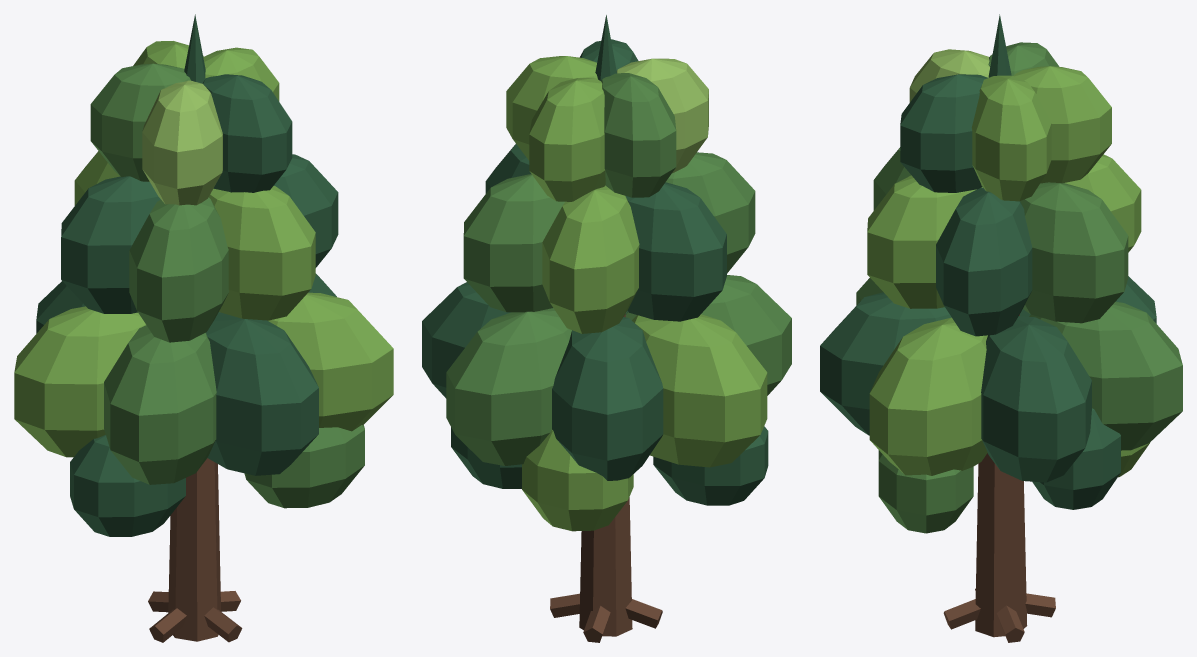
Rendered from tree_pine.glb.
3 views of the same model, side by side, from view 1: azimuth 30°, elevation 25°; view 2: azimuth 150°, elevation 25°; view 3: azimuth 270°, elevation 25° (orthographic).
Parts seen in each view (by area): view 1: decor_pine_tier_0_4, decor_pine_tier_0_5, decor_pine_tier_0_3, decor_pine_tier_1_3, decor_pine_tier_1_4, decor_pine_tier_0_6, decor_pine_tier_1_2, decor_pine_tier_2_2, decor_pine_tier_2_3, Pine_trunk, decor_pine_low_tip_0, decor_pine_tier_2_1 (+9 smaller); view 2: decor_pine_tier_0_3, decor_pine_tier_0_1, decor_pine_tier_0_2, decor_pine_tier_1_1, decor_pine_tier_1_2, decor_pine_tier_1_0, decor_pine_tier_2_0, decor_pine_tier_2_1, decor_pine_low_tip_2, Pine_trunk, decor_pine_tier_0_4, decor_pine_tier_1_3 (+11 smaller); view 3: decor_pine_tier_0_0, decor_pine_tier_0_6, decor_pine_tier_1_0, decor_pine_tier_0_1, decor_pine_tier_1_5, decor_pine_tier_1_4, decor_pine_tier_2_4, decor_pine_tier_2_3, decor_pine_tier_0_5, Pine_trunk, decor_pine_tier_2_0, decor_pine_low_tip_1 (+10 smaller).
Boxes of the visible parts, box(x1,y1,x2,y2) form: decor_pine_tier_0_4: box(104, 325, 216, 484); decor_pine_tier_0_5: box(206, 312, 318, 475); decor_pine_tier_0_3: box(14, 306, 145, 457); decor_pine_tier_1_3: box(129, 197, 228, 342); decor_pine_tier_1_4: box(209, 186, 315, 320); decor_pine_tier_0_6: box(268, 292, 393, 431); decor_pine_tier_1_2: box(61, 176, 160, 313); decor_pine_tier_2_2: box(142, 80, 222, 205); decor_pine_tier_2_3: box(202, 74, 292, 192); Pine_trunk: box(168, 458, 220, 641); decor_pine_low_tip_0: box(70, 435, 185, 536); decor_pine_tier_2_1: box(90, 63, 190, 181); decor_pine_tier_0_3: box(632, 314, 767, 467); decor_pine_tier_0_1: box(446, 308, 571, 465); decor_pine_tier_0_2: box(552, 317, 663, 480); decor_pine_tier_1_1: box(542, 185, 639, 333); decor_pine_tier_1_2: box(625, 182, 726, 321); decor_pine_tier_1_0: box(463, 174, 564, 312); decor_pine_tier_2_0: box(529, 78, 605, 201); decor_pine_tier_2_1: box(601, 73, 676, 197); decor_pine_low_tip_2: box(522, 430, 633, 531); Pine_trunk: box(579, 314, 632, 636); decor_pine_tier_0_4: box(625, 275, 791, 395); decor_pine_tier_1_3: box(666, 152, 755, 273); decor_pine_tier_0_0: box(981, 316, 1091, 482); decor_pine_tier_0_6: box(869, 317, 987, 475); decor_pine_tier_1_0: box(1020, 182, 1128, 323); decor_pine_tier_0_1: box(1029, 301, 1182, 450); decor_pine_tier_1_5: box(936, 187, 1032, 336); decor_pine_tier_1_4: box(867, 175, 982, 308); decor_pine_tier_2_4: box(971, 75, 1051, 201); decor_pine_tier_2_3: box(900, 74, 987, 192); decor_pine_tier_0_5: box(820, 292, 951, 435); Pine_trunk: box(975, 314, 1027, 637); decor_pine_tier_2_0: box(1013, 66, 1111, 183); decor_pine_low_tip_1: box(878, 450, 973, 533).
Size of the model in its own units: 1.77 by 3.21 by 1.72.
